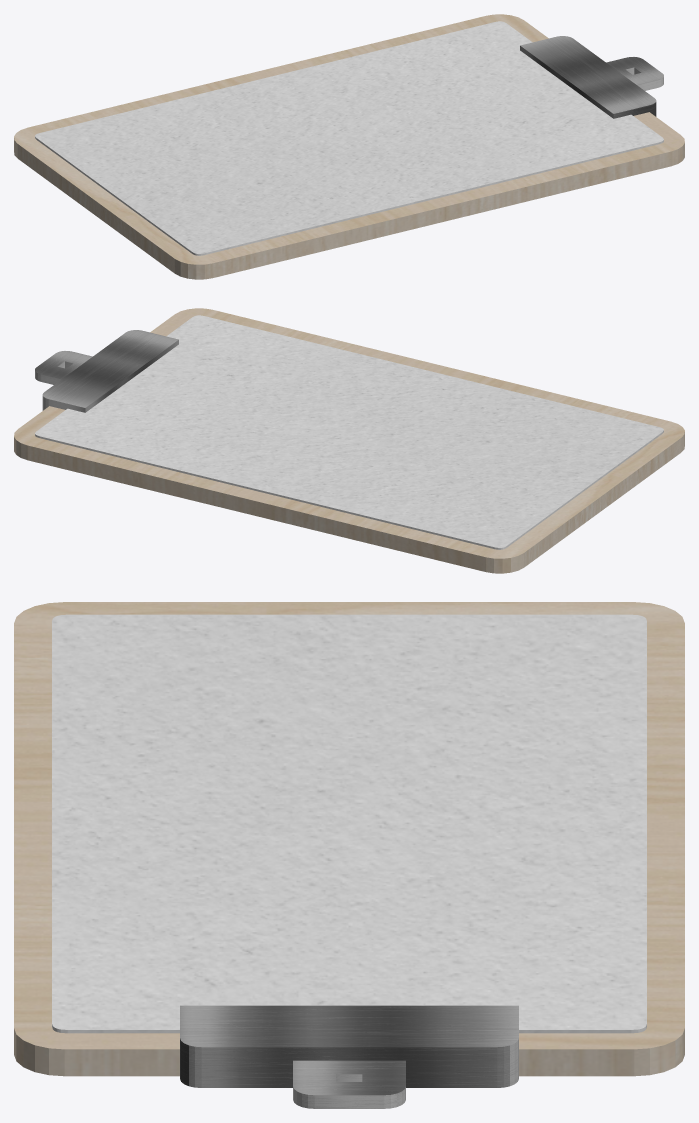
Rendered from ClipBoardV1.fbx.
The picture shows the model from 3 angles, top to bottom: view 1: azimuth 30°, elevation 25°; view 2: azimuth 150°, elevation 25°; view 3: azimuth 270°, elevation 25°; orthographic projection. The views are drawn at different scales.
Visible parts, largest first — view 1: Page, Board, Clip; view 2: Page, Board, Clip; view 3: Page, Board, Clip.
Part boxes in pixels (x1,y1,x2,y2): Page: (35,21,663,255); Board: (14,14,684,279); Clip: (520,36,663,118); Page: (35,315,663,549); Board: (14,308,684,573); Clip: (35,330,178,412); Page: (52,614,646,1033); Board: (14,602,684,1076); Clip: (180,1005,518,1108).
Size of the model in its own units: 687 by 26.65 by 396.
3 materials, 3 textured.
